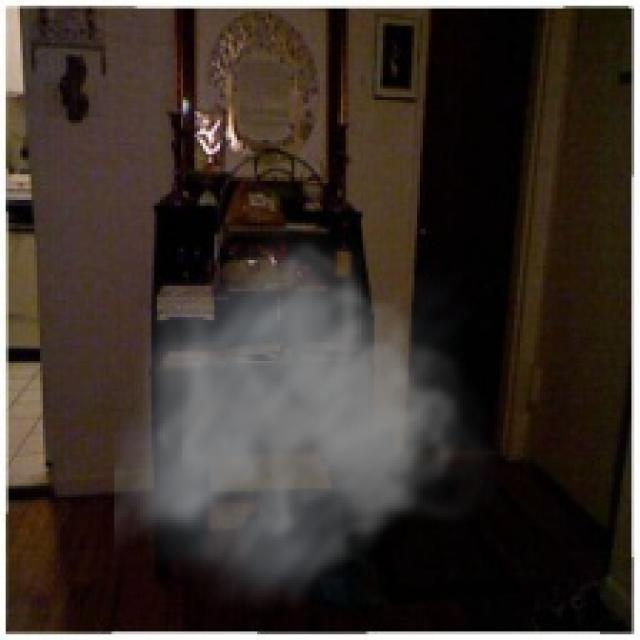Smoke: (114, 223, 503, 620)
